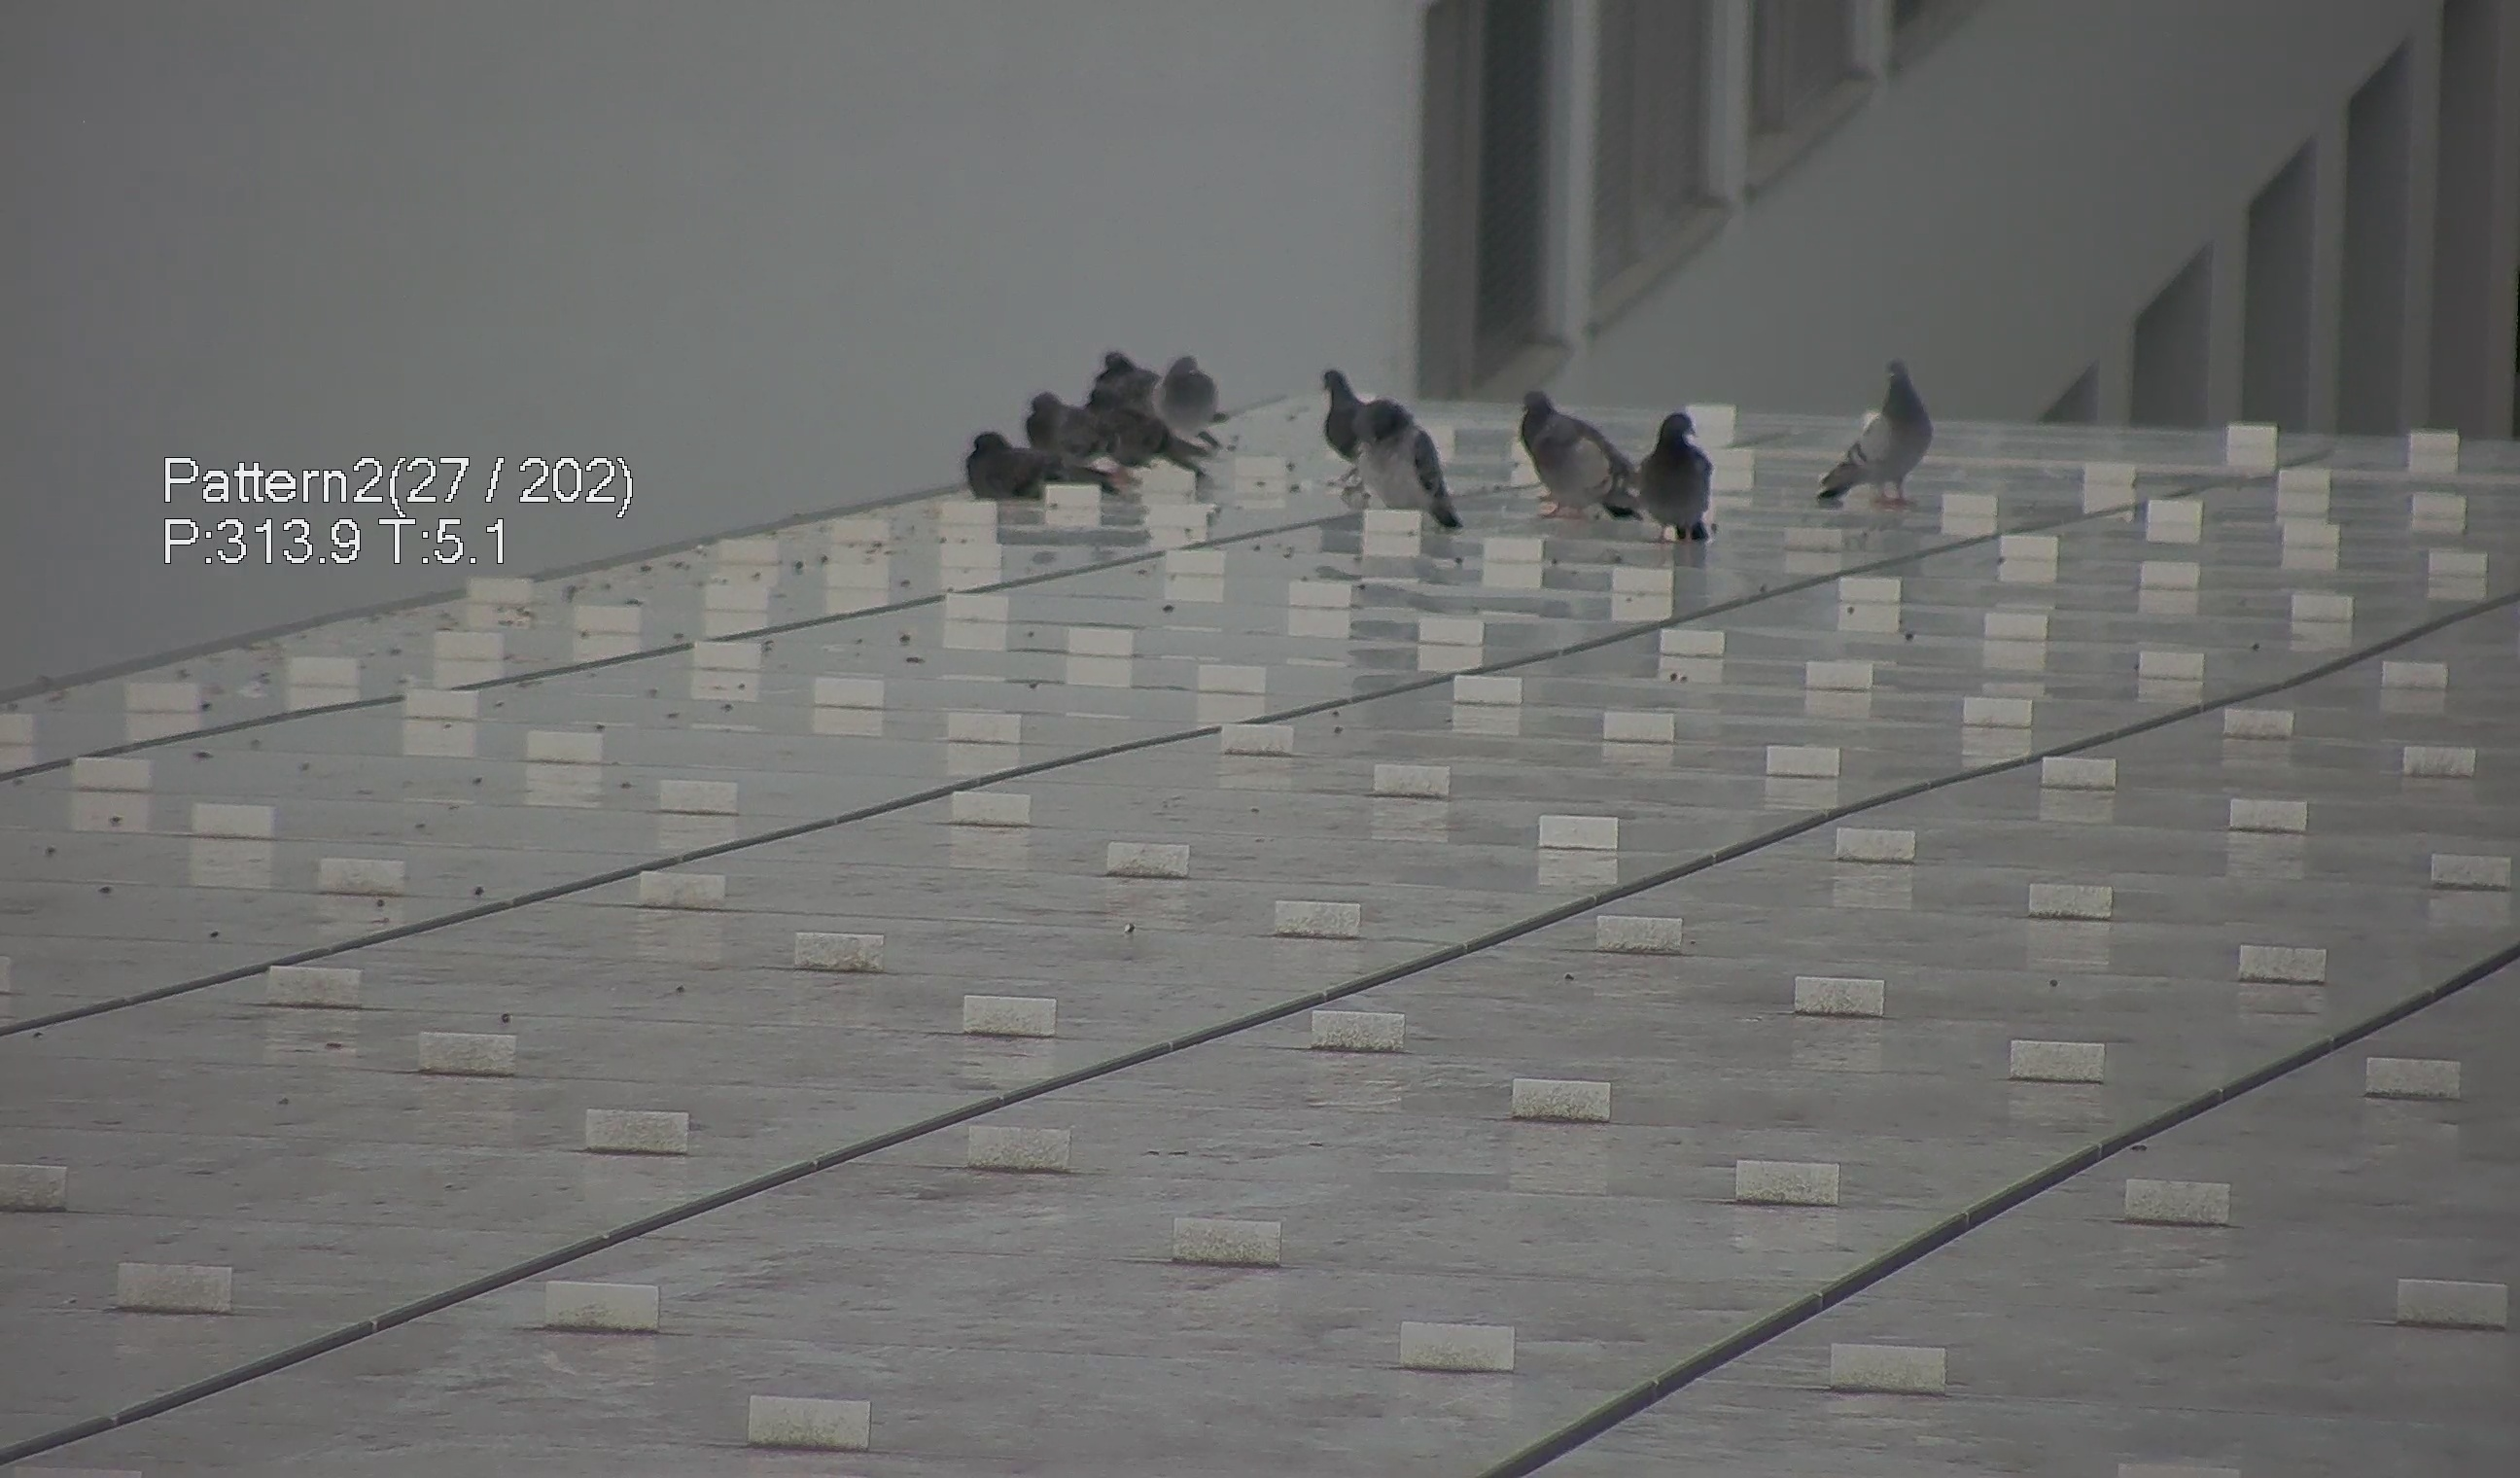Pigeon: (1817, 347, 1952, 514), (1345, 391, 1475, 528), (1620, 394, 1730, 540), (1027, 385, 1148, 472), (1535, 415, 1621, 528), (1134, 355, 1229, 447), (955, 422, 1053, 500), (1308, 357, 1370, 457), (1514, 375, 1577, 463), (1094, 338, 1147, 392)
